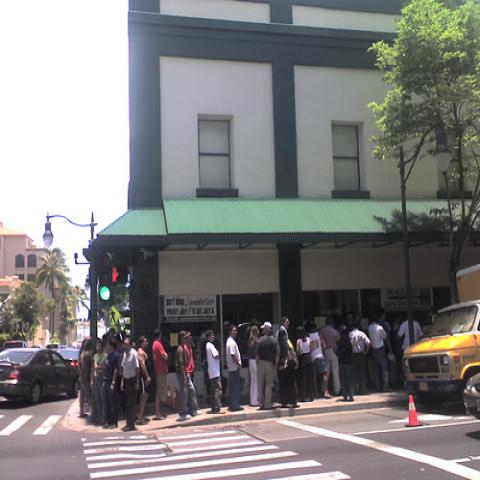car: (1, 346, 80, 406), (463, 371, 479, 422), (57, 349, 79, 366), (0, 340, 27, 352)
truck: (401, 263, 479, 409)
